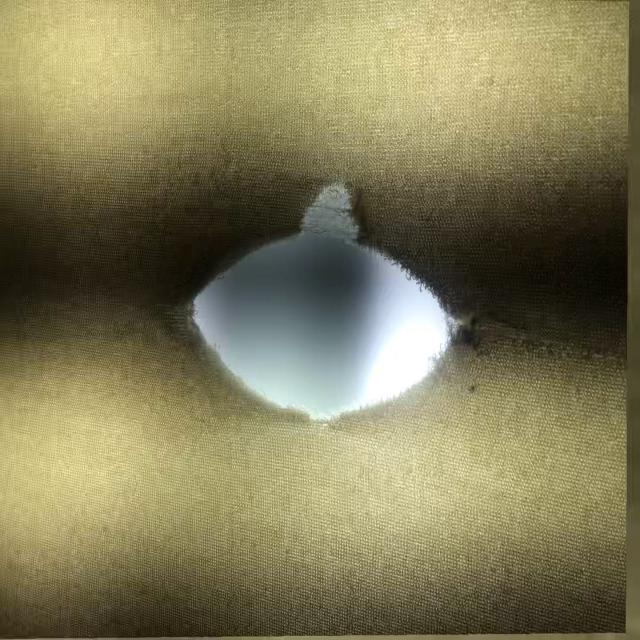hole: (179, 175, 472, 431)
